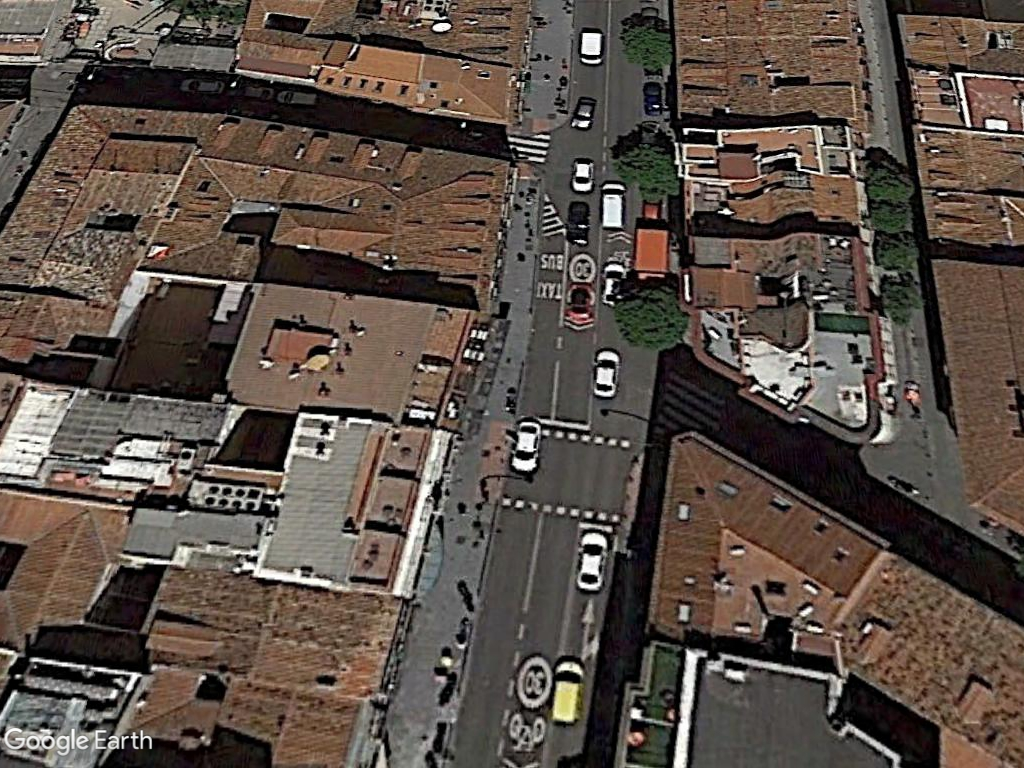car: (574, 525, 611, 595), (512, 413, 543, 474), (592, 343, 623, 401), (570, 153, 596, 194)
van: (550, 652, 586, 730), (601, 177, 627, 231), (578, 26, 604, 69)
